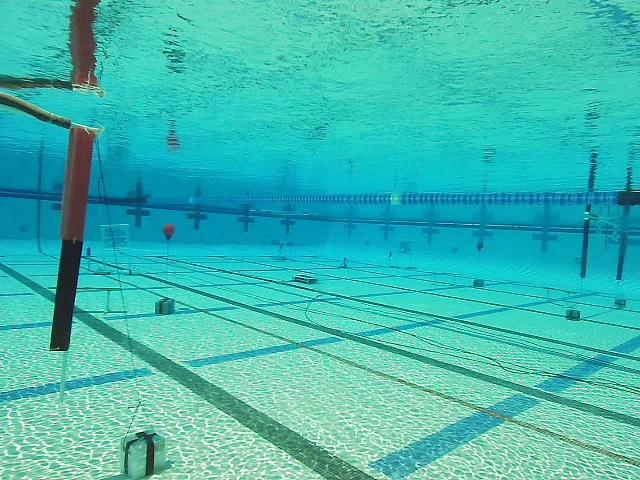buoy: (163, 223, 176, 243)
dropper: (290, 272, 320, 286)
gate_leg_l: (47, 124, 103, 352)
table: (270, 238, 296, 260)
torpedo: (100, 221, 134, 253), (398, 238, 415, 258)
